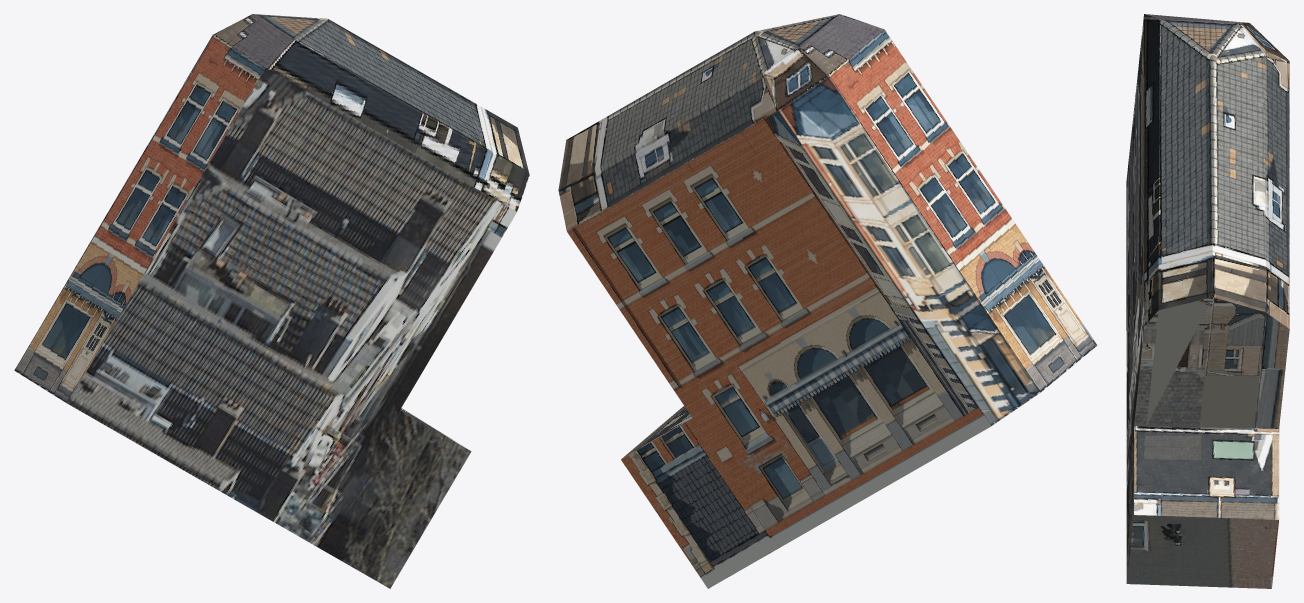
The picture shows the model from 3 angles, left to right: view 1: azimuth 30°, elevation 25°; view 2: azimuth 150°, elevation 25°; view 3: azimuth 270°, elevation 25°; orthographic projection. The views are drawn at different scales.
Visible parts, largest first — view 1: BAG_0599100000671675 (×4); view 2: BAG_0599100000671675 (×5); view 3: BAG_0599100000671675 (×5).
Part boxes in pixels (x1=…): BAG_0599100000671675 (×4): x1=14, y1=14, x2=529, y2=588; BAG_0599100000671675 (×5): x1=558, y1=14, x2=1097, y2=588; BAG_0599100000671675 (×5): x1=1126, y1=14, x2=1289, y2=588.
Size of the model in its own units: 18.9 by 20.44 by 5.66.
5 materials, 5 textured.
